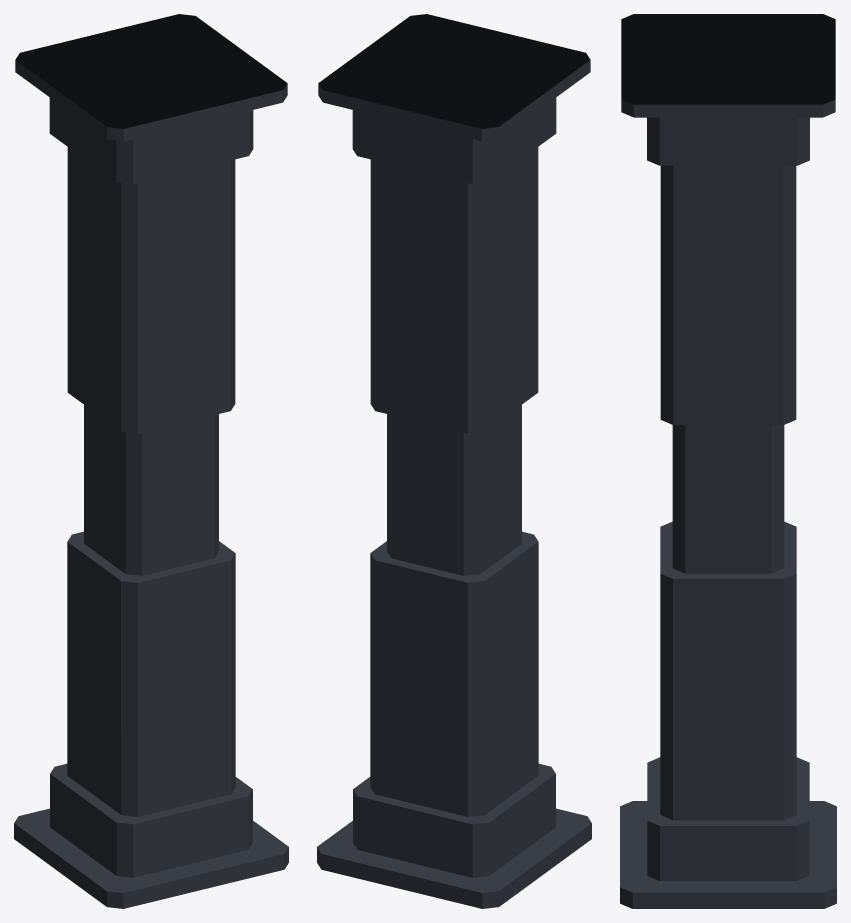
The model's file is pillier tout droit.fbx.
The picture shows the model from 3 angles, left to right: view 1: azimuth 30°, elevation 25°; view 2: azimuth 150°, elevation 25°; view 3: azimuth 270°, elevation 25°; orthographic projection. The views are drawn at different scales.
Visible parts, largest first — view 1: Pillier tout droit; view 2: Pillier tout droit; view 3: Pillier tout droit.
Part boxes in pixels (<box>): Pillier tout droit: <box>14,14,288,908</box>; Pillier tout droit: <box>317,14,591,908</box>; Pillier tout droit: <box>620,14,836,908</box>.
Bounding box in the file's own units: 171 × 701 × 171.
